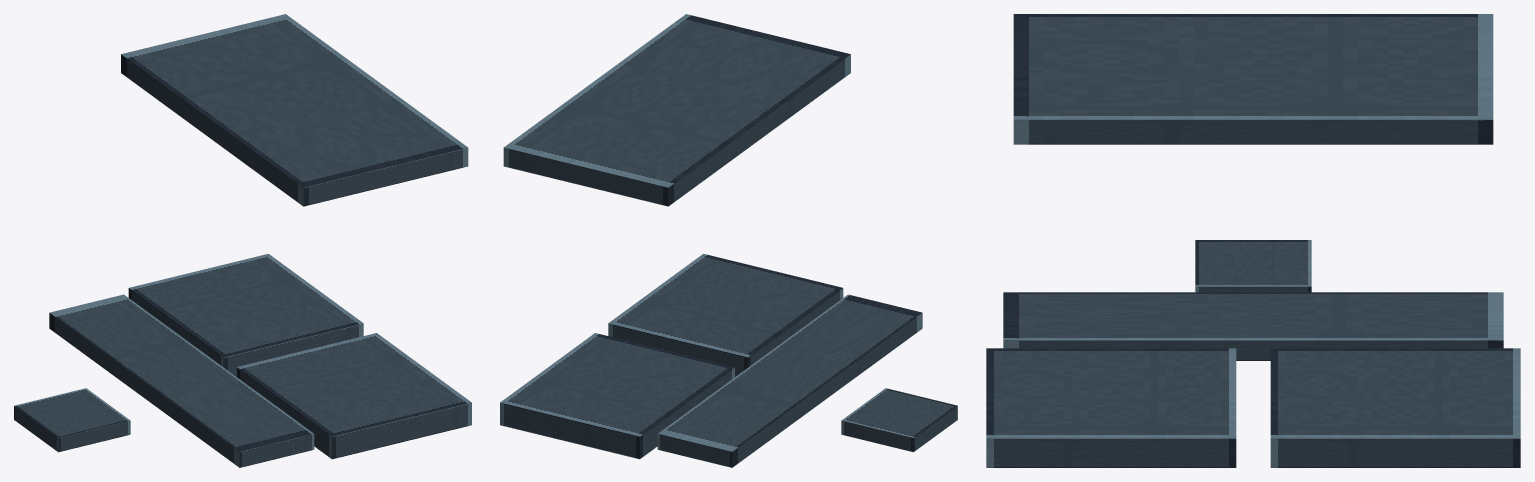
Rendered from bench_chestplate_2.obj.
3 views of the same model, side by side, from view 1: azimuth 30°, elevation 25°; view 2: azimuth 150°, elevation 25°; view 3: azimuth 270°, elevation 25° (orthographic). The views are drawn at different scales.
Parts seen in each view (by area): view 1: geometry; view 2: geometry; view 3: geometry.
Part boxes in pixels (x1,y1,x2,y2): geometry: [14, 14, 471, 467]; geometry: [500, 14, 957, 467]; geometry: [986, 14, 1520, 467].
Bounding box in the file's own units: 0.3277 × 0.25 × 0.3385.
